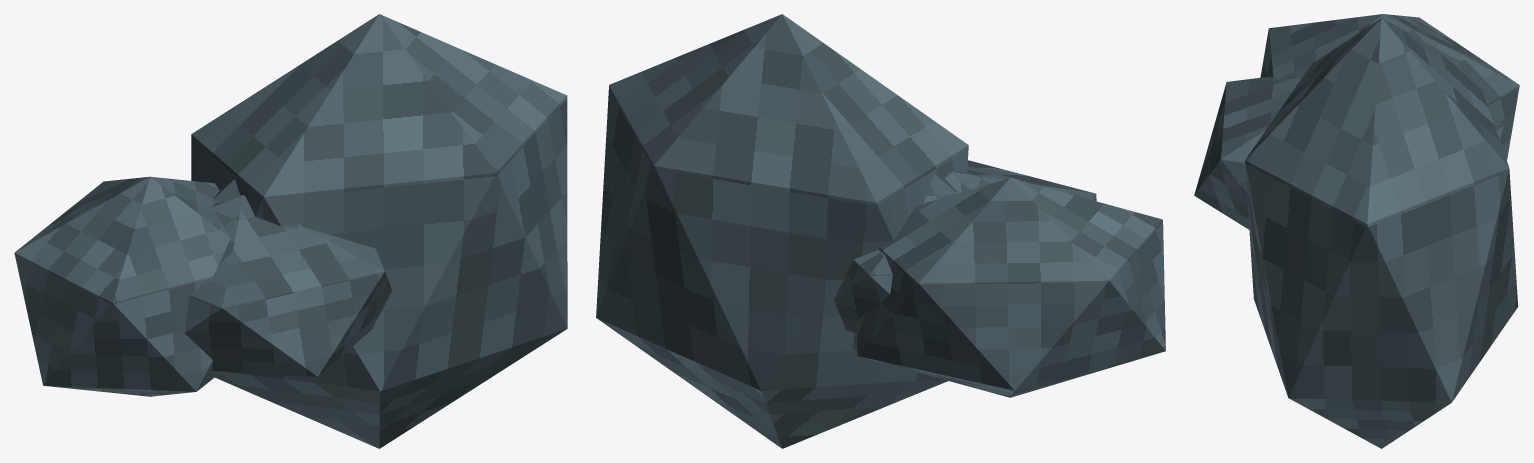
File: ruin_14.glb
The picture shows the model from 3 angles, left to right: view 1: azimuth 30°, elevation 25°; view 2: azimuth 150°, elevation 25°; view 3: azimuth 270°, elevation 25°; orthographic projection.
Parts seen in each view (by area): view 1: WeatheredStone.003, WeatheredStone, WeatheredStone.001; view 2: WeatheredStone.003, WeatheredStone, WeatheredStone.001; view 3: WeatheredStone.003, WeatheredStone, WeatheredStone.001.
Boxes of the visible parts, x1=… form: WeatheredStone.003: x1=191, y1=14, x2=567, y2=448; WeatheredStone: x1=14, y1=176, x2=230, y2=396; WeatheredStone.001: x1=184, y1=194, x2=391, y2=376; WeatheredStone.003: x1=596, y1=14, x2=968, y2=448; WeatheredStone: x1=856, y1=178, x2=1165, y2=397; WeatheredStone.001: x1=834, y1=160, x2=1096, y2=332; WeatheredStone.003: x1=1245, y1=18, x2=1518, y2=448; WeatheredStone: x1=1260, y1=14, x2=1519, y2=160; WeatheredStone.001: x1=1194, y1=76, x2=1504, y2=229.
Size of the model in its own units: 3.19 by 2.45 by 1.68.
1 material, 1 textured.
